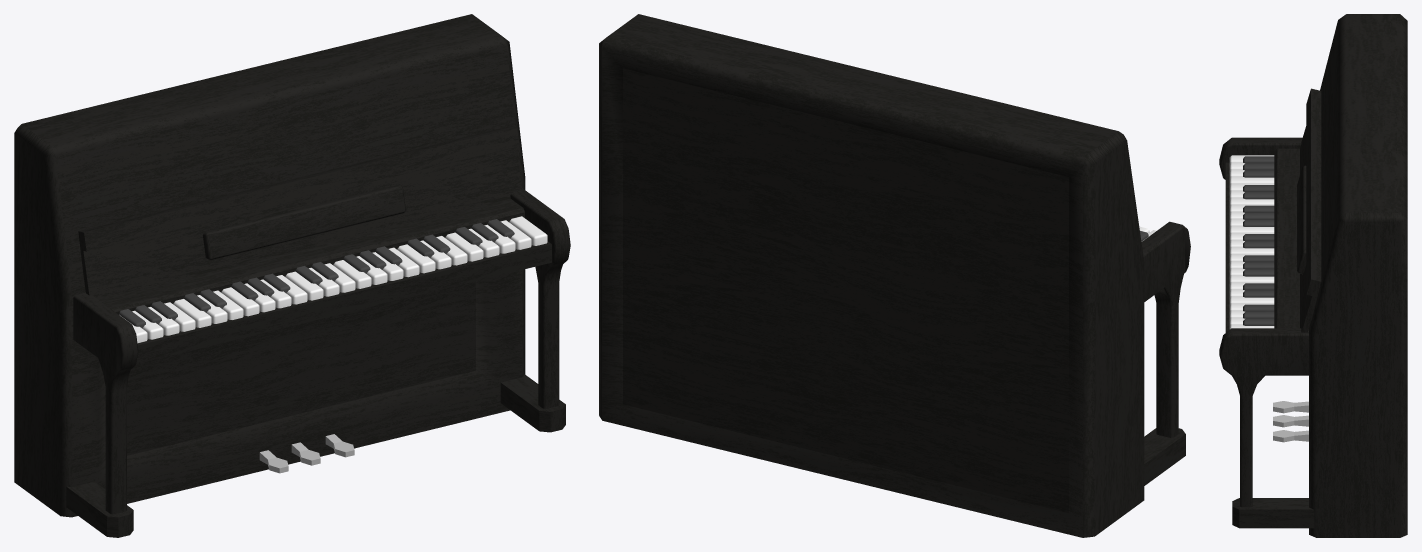
The model's file is entertainment_018.fbx.
3 renders of one model, left to right at view 1: azimuth 30°, elevation 25°; view 2: azimuth 150°, elevation 25°; view 3: azimuth 270°, elevation 25°, orthographic. The views are drawn at different scales.
Visible parts, largest first — view 1: entertainment_018; view 2: entertainment_018; view 3: entertainment_018.
Boxes of the visible parts, left/top/right/bottom form: entertainment_018: left=14, top=14, right=570, bottom=537; entertainment_018: left=599, top=14, right=1190, bottom=537; entertainment_018: left=1219, top=14, right=1407, bottom=537.
Size of the model in its own units: 212 by 82.41 by 156.
